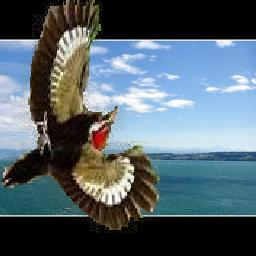Woodpecker: (0, 0, 162, 233)
